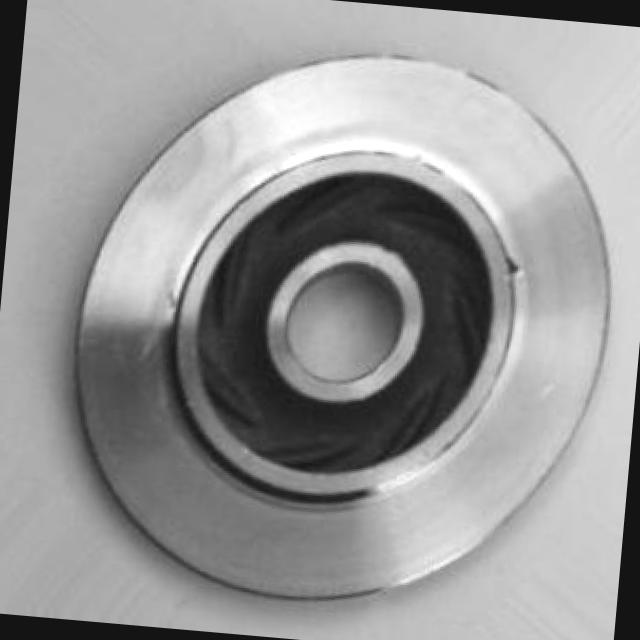Defect: (491, 244, 524, 286)
